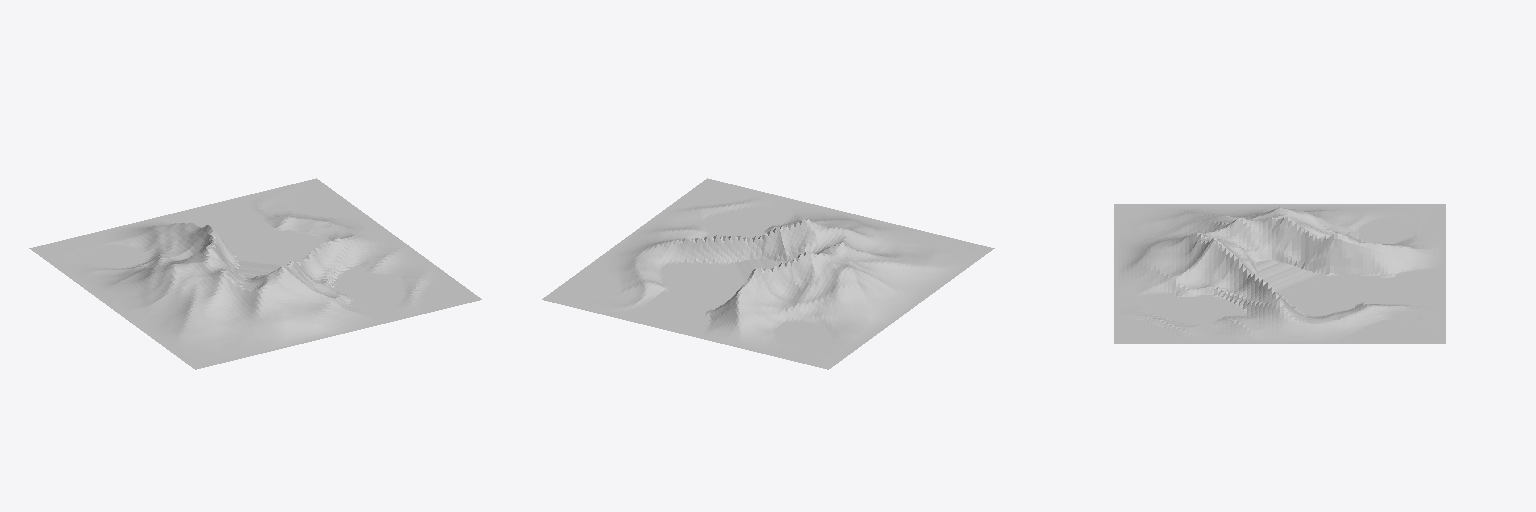
File: IslandObjectInSceneTest.OBJ
3 views of the same model, side by side, from view 1: azimuth 30°, elevation 25°; view 2: azimuth 150°, elevation 25°; view 3: azimuth 270°, elevation 25° (orthographic).
Visible parts, largest first — view 1: Null Landscape_1, Null Plane; view 2: Null Landscape_1, Null Plane; view 3: Null Landscape_1, Null Plane.
Boxes of the visible parts, <box> form: Null Landscape_1: <box>29,178,481,369</box>; Null Plane: <box>234,255,291,277</box>; Null Landscape_1: <box>542,178,994,369</box>; Null Plane: <box>723,259,786,289</box>; Null Landscape_1: <box>1114,204,1445,343</box>; Null Plane: <box>1256,260,1329,294</box>.
Size of the model in its own units: 800 by 97.76 by 800.